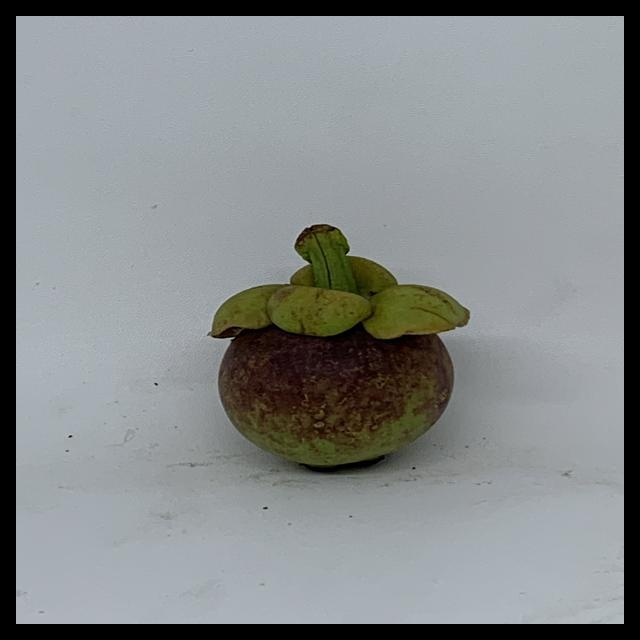mangosteen: (204, 221, 506, 478)
